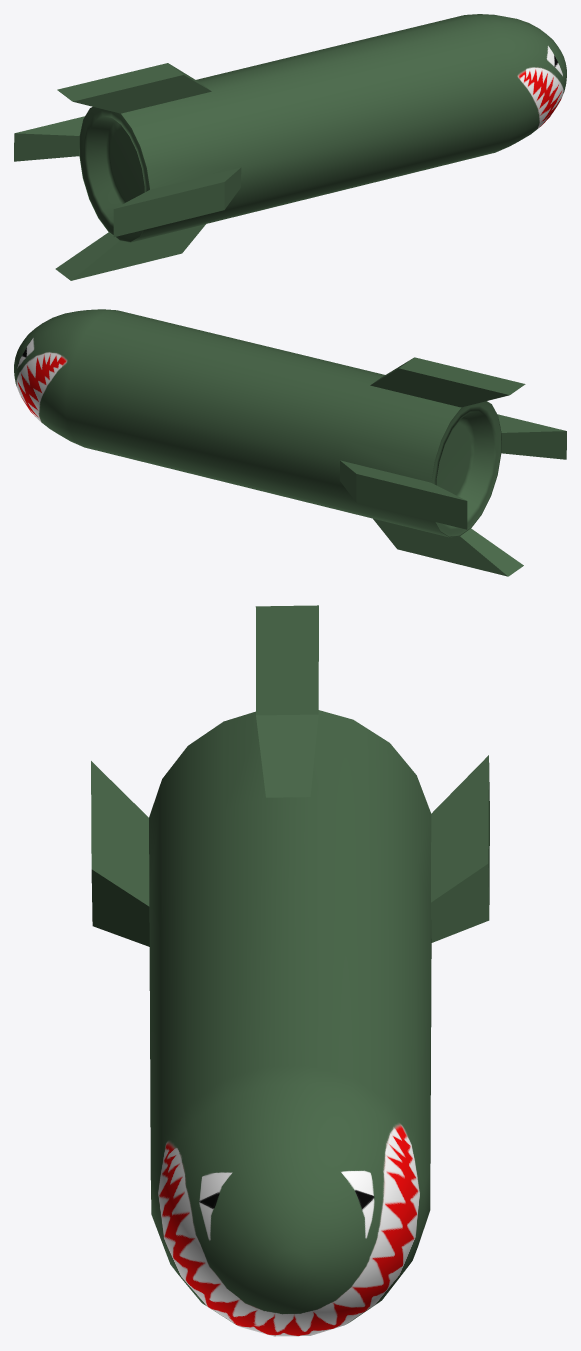
The model's file is NuclearBombFBX.fbx.
The picture shows the model from 3 angles, top to bottom: view 1: azimuth 30°, elevation 25°; view 2: azimuth 150°, elevation 25°; view 3: azimuth 270°, elevation 25°; orthographic projection. The views are drawn at different scales.
Parts seen in each view (by area): view 1: pSphere1; view 2: pSphere1; view 3: pSphere1.
Boxes of the visible parts, x1,y1,x2,y2 form: pSphere1: (14, 14, 566, 280); pSphere1: (14, 309, 566, 576); pSphere1: (91, 605, 489, 1336).
Bounding box in the file's own units: 8.14 × 2.83 × 2.83.
